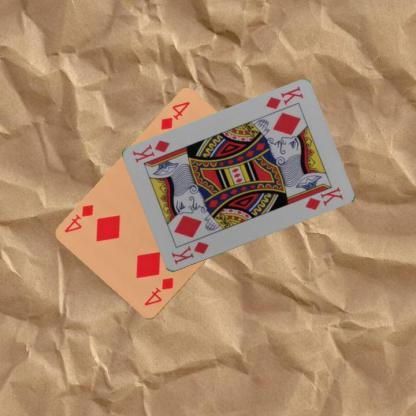4d: (142, 275, 175, 308), (158, 99, 191, 132)
Kd: (168, 239, 210, 266), (263, 84, 304, 111)
